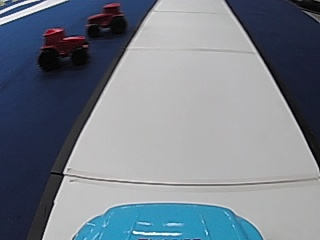tractor: (37, 24, 88, 70), (83, 2, 127, 37)
